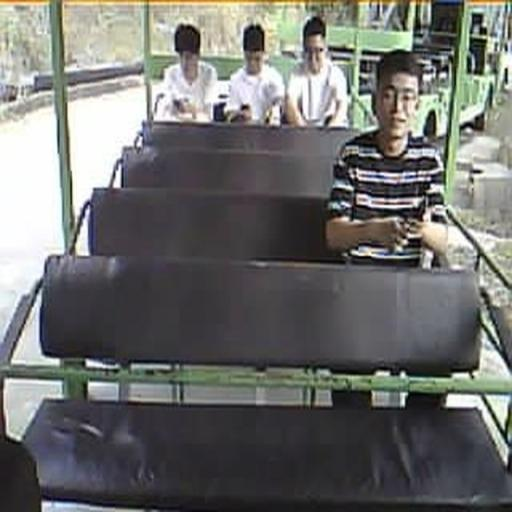persona: (325, 49, 451, 267), (285, 16, 349, 128), (153, 22, 219, 122), (225, 22, 286, 126)
